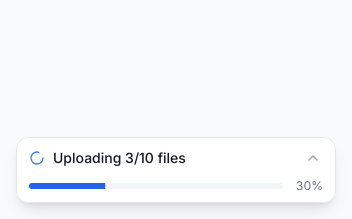
Scenario: FloatingUploadProgress › Header row click › clicking header row while uploading toggles expanded details
expect the text "Test Project" is not shown: met
Click the text "Uploading 3/10 files": (176, 158) [29,148,323,168]
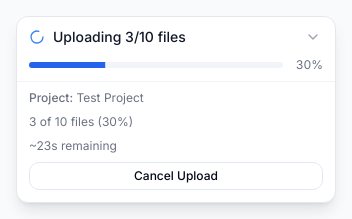
expect the text "Test Project" is shown: met, box [76,90,144,105]
